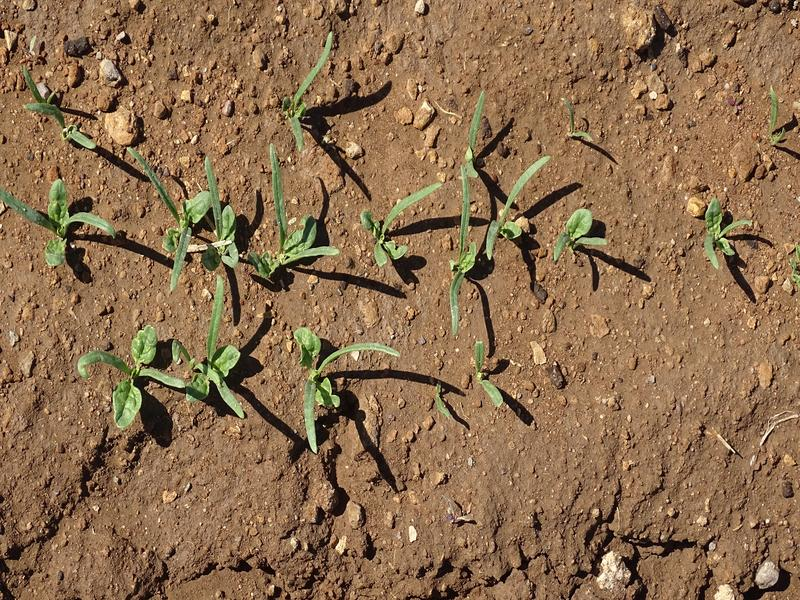Espinaca: (441, 104, 600, 316), (139, 151, 336, 282), (76, 283, 248, 428), (290, 329, 391, 444), (10, 170, 108, 269), (368, 181, 432, 278), (24, 73, 97, 155), (283, 32, 336, 137), (702, 201, 743, 268), (473, 342, 505, 401), (764, 95, 784, 149)
